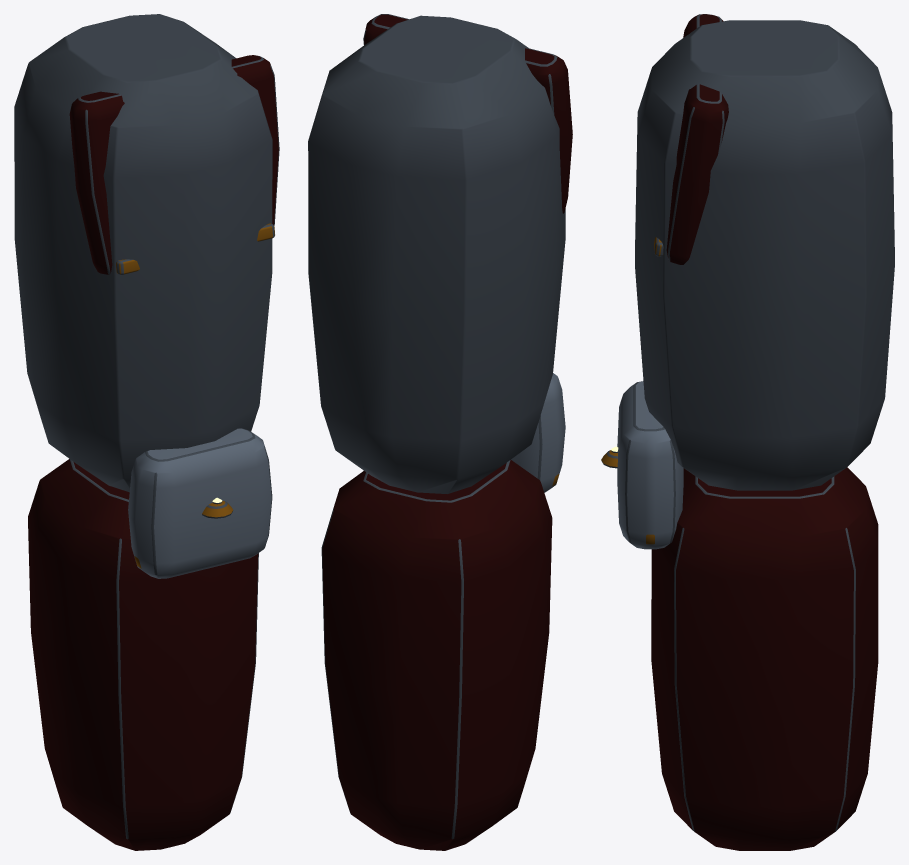
Rendered from Bastiao_CalcaL.fbx.
3 renders of one model, left to right at view 1: azimuth 30°, elevation 25°; view 2: azimuth 150°, elevation 25°; view 3: azimuth 270°, elevation 25°, orthographic.
Visible parts, largest first — view 1: Piece; view 2: Piece; view 3: Piece.
Boxes of the visible parts, x1,y1,x2,y2 form: Piece: [14, 14, 279, 850]; Piece: [308, 14, 572, 850]; Piece: [601, 14, 894, 850].
Bounding box in the file's own units: 0.2095 × 0.7561 × 0.2567.
